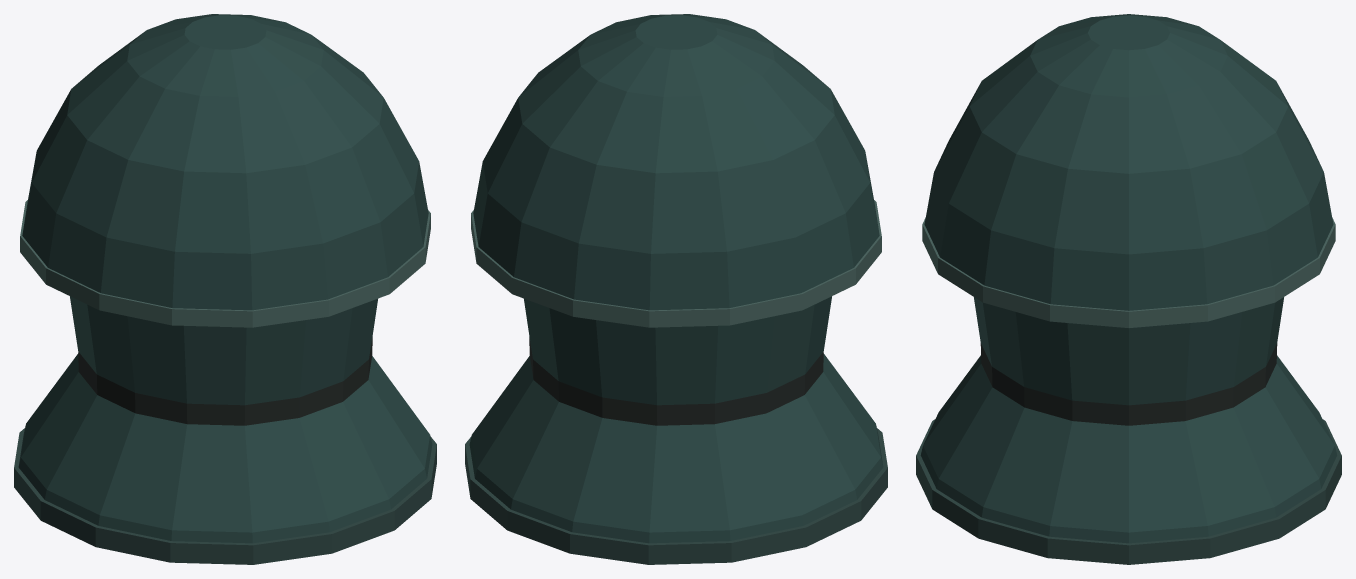
The model's file is enemy_reactor.glb.
3 renders of one model, left to right at view 1: azimuth 30°, elevation 25°; view 2: azimuth 150°, elevation 25°; view 3: azimuth 270°, elevation 25°, orthographic.
Parts seen in each view (by area): view 1: ReactorBody; view 2: ReactorBody; view 3: ReactorBody.
Boxes of the visible parts, bbox=[...] form: ReactorBody: bbox=[14, 14, 436, 564]; ReactorBody: bbox=[465, 14, 887, 564]; ReactorBody: bbox=[916, 14, 1341, 564].
Size of the model in its own units: 2.36 by 2.7 by 2.36.
